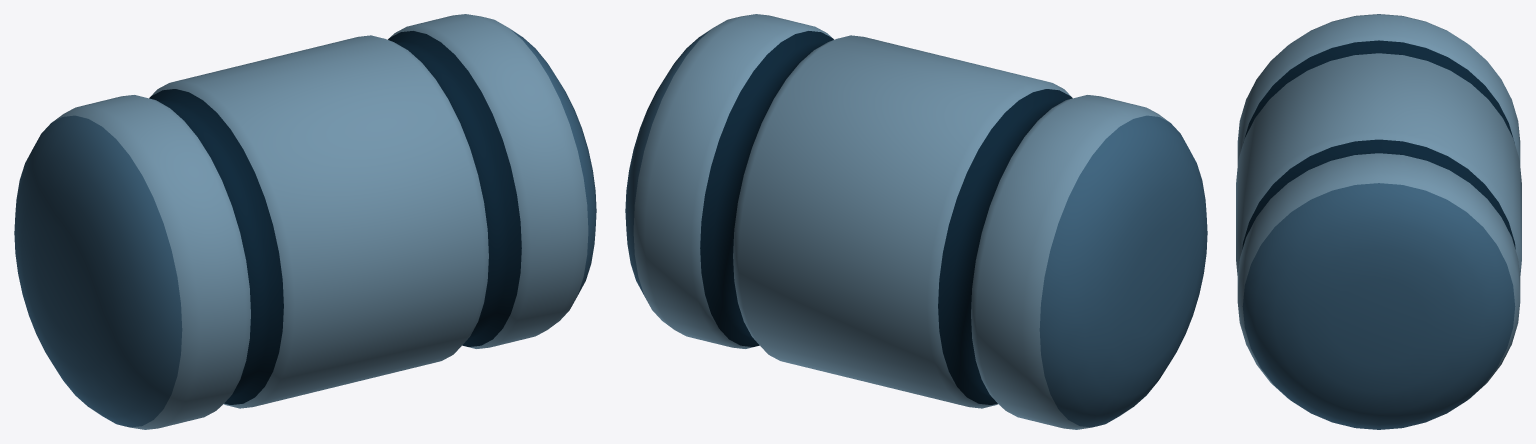
File: steel_canister.glb
3 renders of one model, left to right at view 1: azimuth 30°, elevation 25°; view 2: azimuth 150°, elevation 25°; view 3: azimuth 270°, elevation 25°, orthographic. The views are drawn at different scales.
Visible parts, largest first — view 1: canister; view 2: canister; view 3: canister.
Part boxes in pixels (left/top/right/bottom): canister: left=14, top=14, right=596, bottom=429; canister: left=625, top=14, right=1207, bottom=429; canister: left=1236, top=14, right=1521, bottom=429.
Bounding box in the file's own units: 10.06 × 6 × 6.
